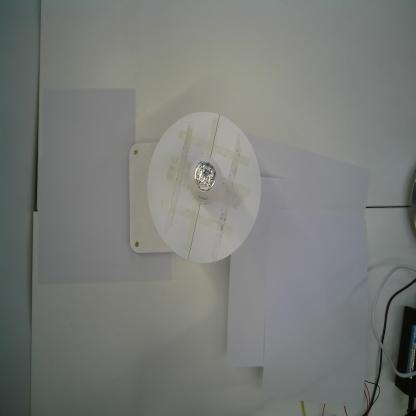Milk: (188, 157, 223, 205)
